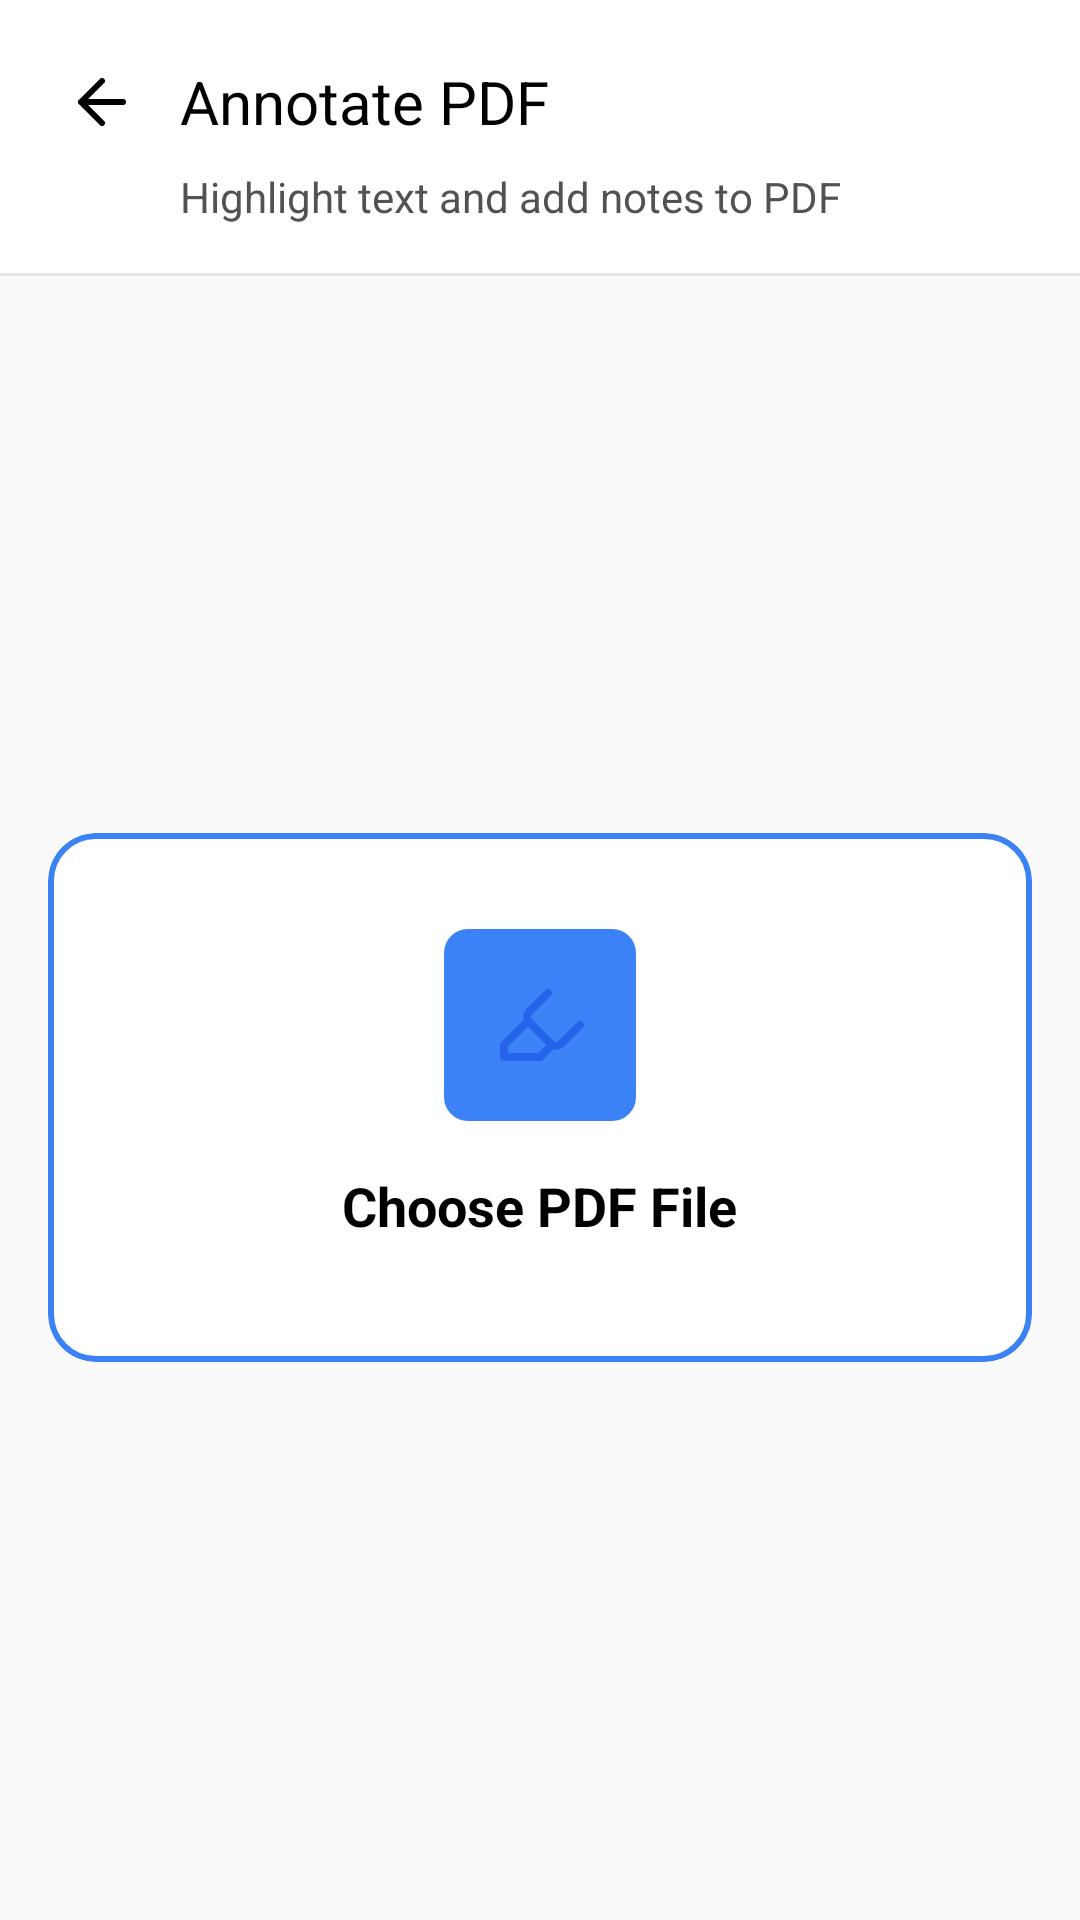

Icon click points for this 1080px×1920px phone screenshot, format [x,y]:
arrow left: [102,102]
highlighter: [542,1025]
